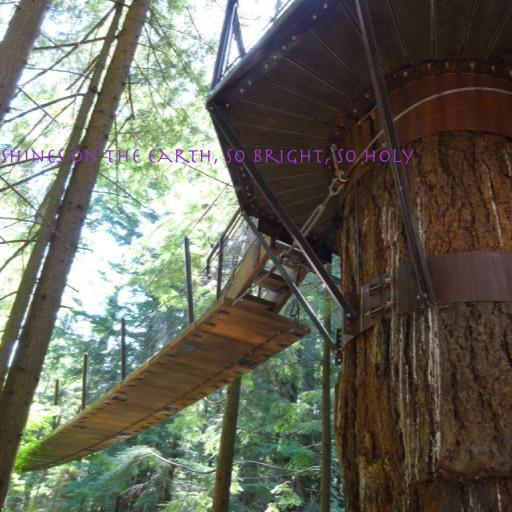Herculanum: (0, 148, 414, 165)
